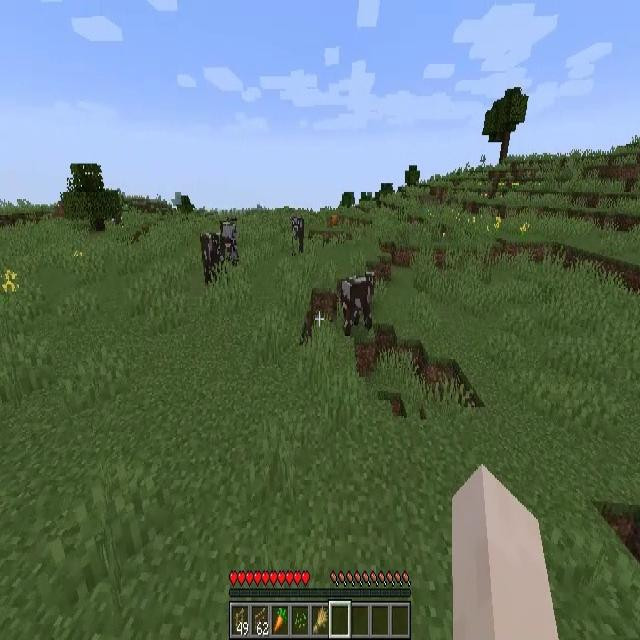cow: (341, 272, 375, 334), (202, 232, 226, 279), (220, 221, 237, 261), (290, 218, 304, 253)
flower: (3, 272, 19, 294)
